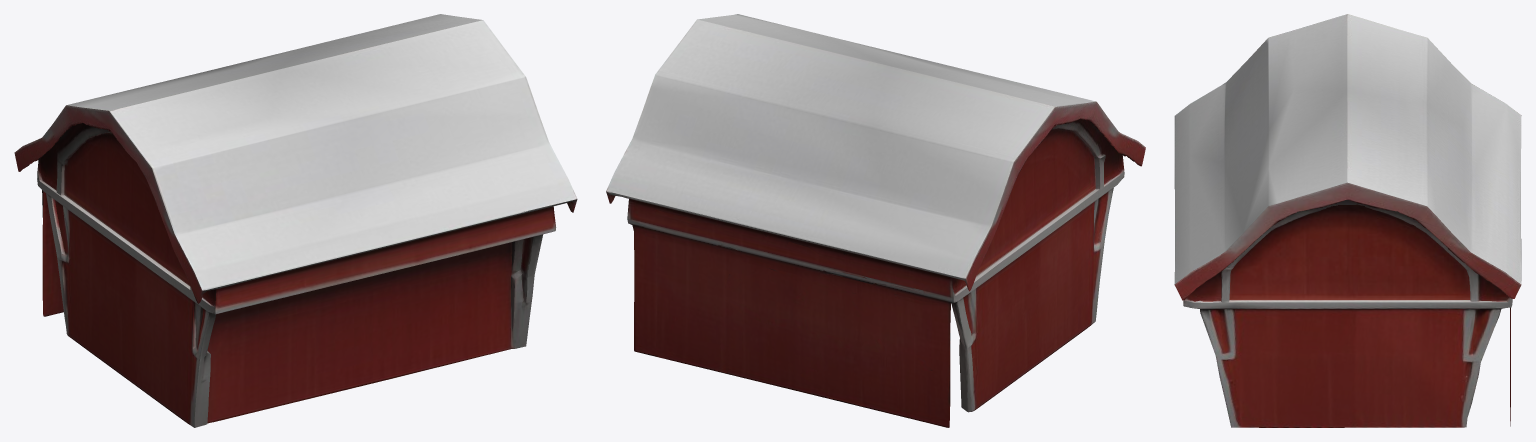
File: barn_tex.glb
3 renders of one model, left to right at view 1: azimuth 30°, elevation 25°; view 2: azimuth 150°, elevation 25°; view 3: azimuth 270°, elevation 25°, orthographic. The views are drawn at different scales.
Visible parts, largest first — view 1: barn; view 2: barn; view 3: barn.
Boxes of the visible parts, x1,y1,x2,y2 form: barn: [14, 14, 577, 427]; barn: [606, 14, 1145, 427]; barn: [1174, 14, 1521, 427].
Size of the model in its own units: 1.42 by 0.9996 by 1.23.
1 material, 1 textured.
